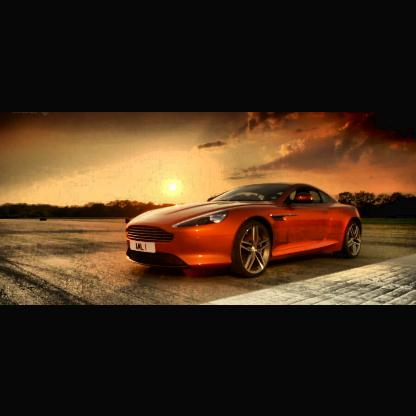Aston Martin Virage Coupe 2012: (125, 182, 368, 279)
